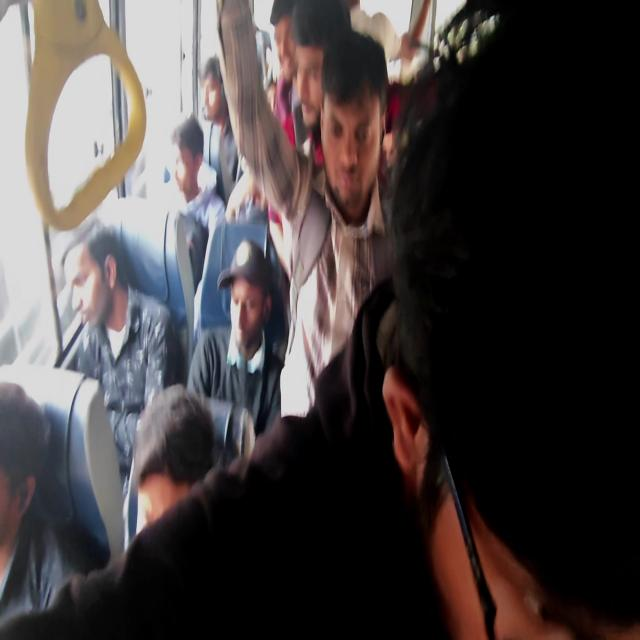person: (1, 1, 638, 637), (381, 1, 639, 638), (216, 1, 397, 424), (62, 221, 182, 547), (186, 238, 284, 444), (0, 380, 82, 626), (130, 382, 216, 540), (168, 113, 226, 289), (199, 54, 240, 204), (269, 0, 302, 150)
